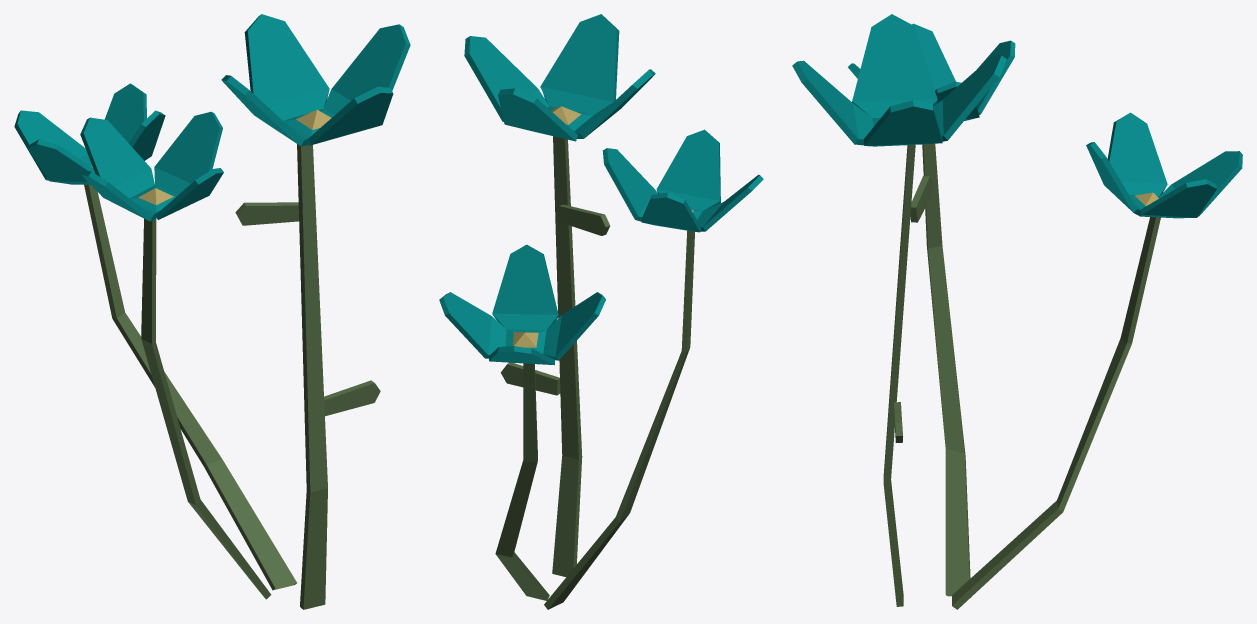
Rendered from q_flowers.gltf.
3 renders of one model, left to right at view 1: azimuth 30°, elevation 25°; view 2: azimuth 150°, elevation 25°; view 3: azimuth 270°, elevation 25°, orthographic. The views are drawn at different scales.
Parts seen in each view (by area): view 1: Flowers; view 2: Flowers; view 3: Flowers.
Part boxes in pixels (left/top/right/bottom): Flowers: left=14, top=14, right=410, bottom=609; Flowers: left=439, top=14, right=763, bottom=609; Flowers: left=792, top=14, right=1242, bottom=609.
Size of the model in its own units: 0.4895 by 0.8289 by 0.6137.
